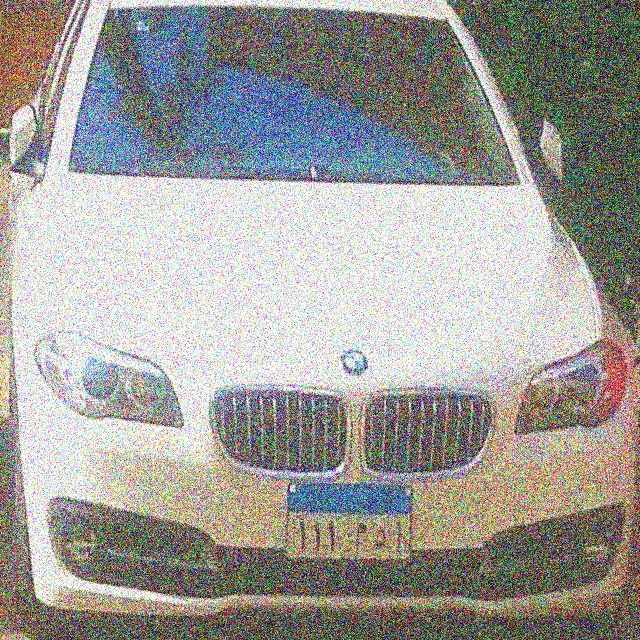License Plate: (283, 477, 415, 566)
